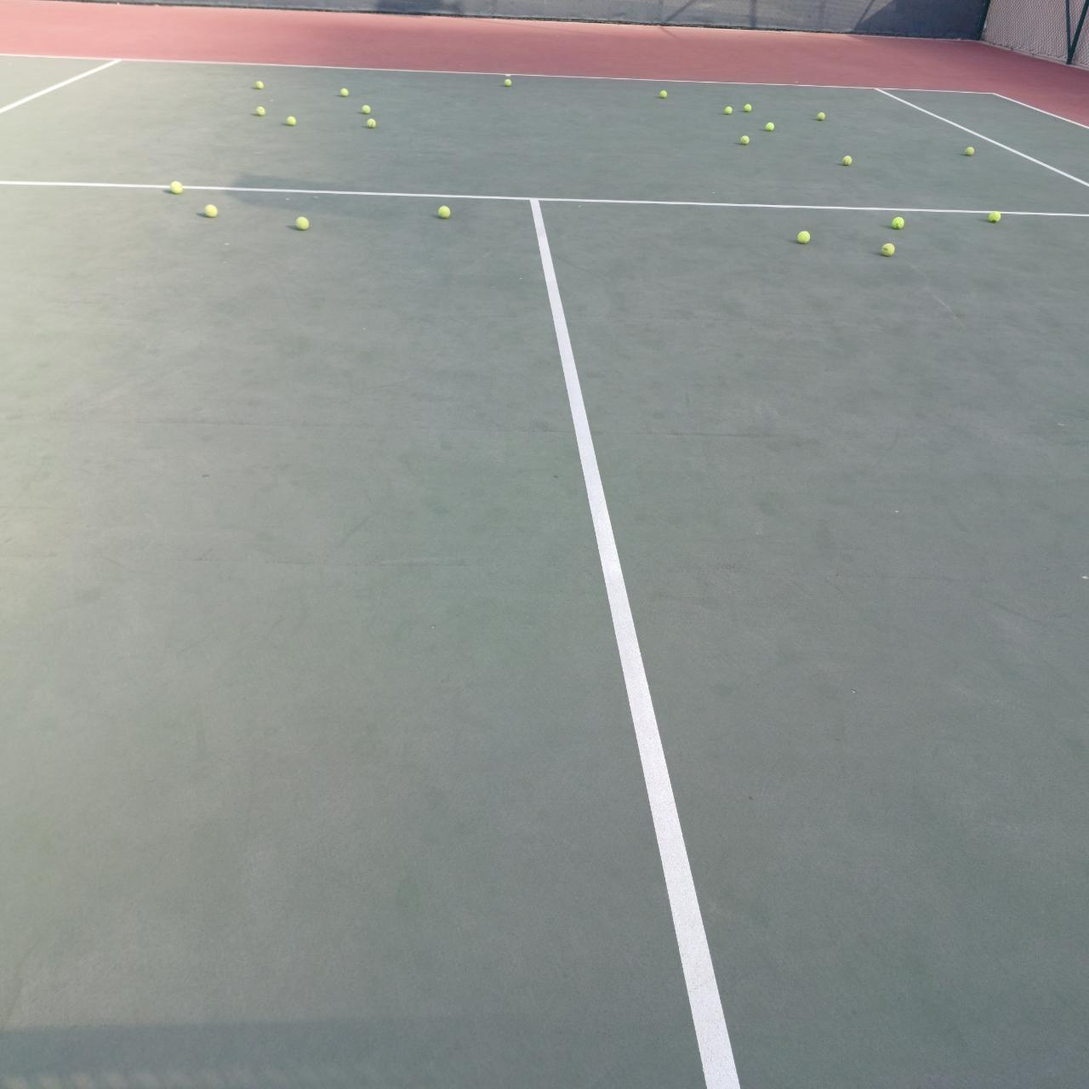tennis-ball: (796, 229, 811, 245), (294, 214, 309, 230), (880, 242, 895, 257), (168, 179, 183, 194), (203, 202, 217, 217), (437, 205, 451, 219), (987, 210, 1001, 224), (891, 216, 904, 230), (285, 115, 296, 126), (842, 155, 853, 166), (255, 106, 266, 116), (366, 118, 376, 128), (740, 135, 750, 145), (255, 80, 264, 90), (765, 122, 775, 131), (362, 105, 371, 114), (659, 90, 668, 99), (965, 147, 974, 156), (744, 103, 752, 113), (340, 88, 348, 97), (724, 106, 732, 114), (504, 79, 512, 86), (818, 112, 825, 120)
